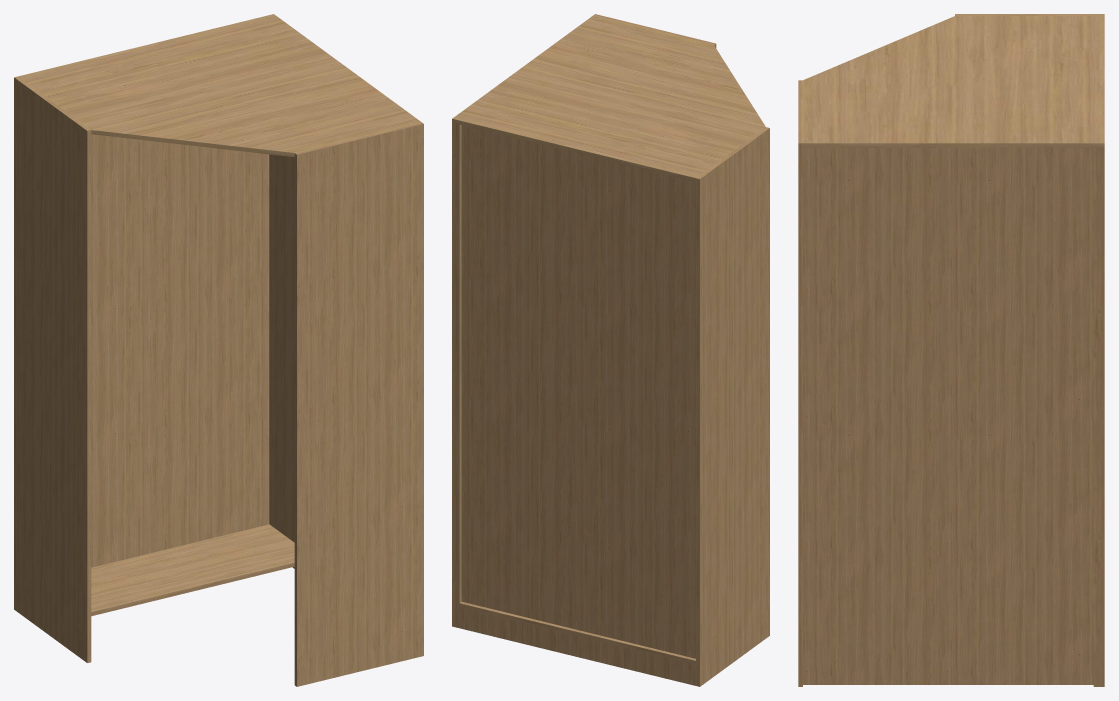
File: wic-1228-1.glb
3 renders of one model, left to right at view 1: azimuth 30°, elevation 25°; view 2: azimuth 150°, elevation 25°; view 3: azimuth 270°, elevation 25°, orthographic. The views are drawn at different scales.
Parts seen in each view (by area): view 1: Geom3D; view 2: Geom3D; view 3: Geom3D.
Part boxes in pixels (box(x1,y1,x2,y2)): Geom3D: box(14, 14, 423, 686); Geom3D: box(452, 14, 769, 686); Geom3D: box(798, 14, 1104, 686).
Bounding box in the file's own units: 1.23 × 2.4 × 1.23.
1 material, 1 textured.
